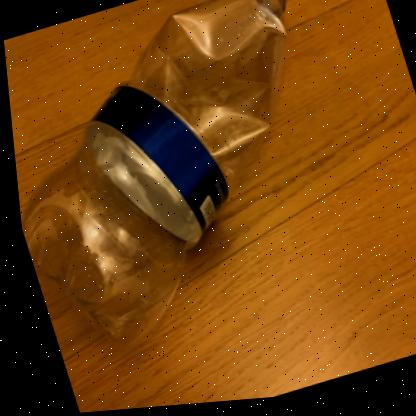Plastic: (17, 0, 285, 345)
